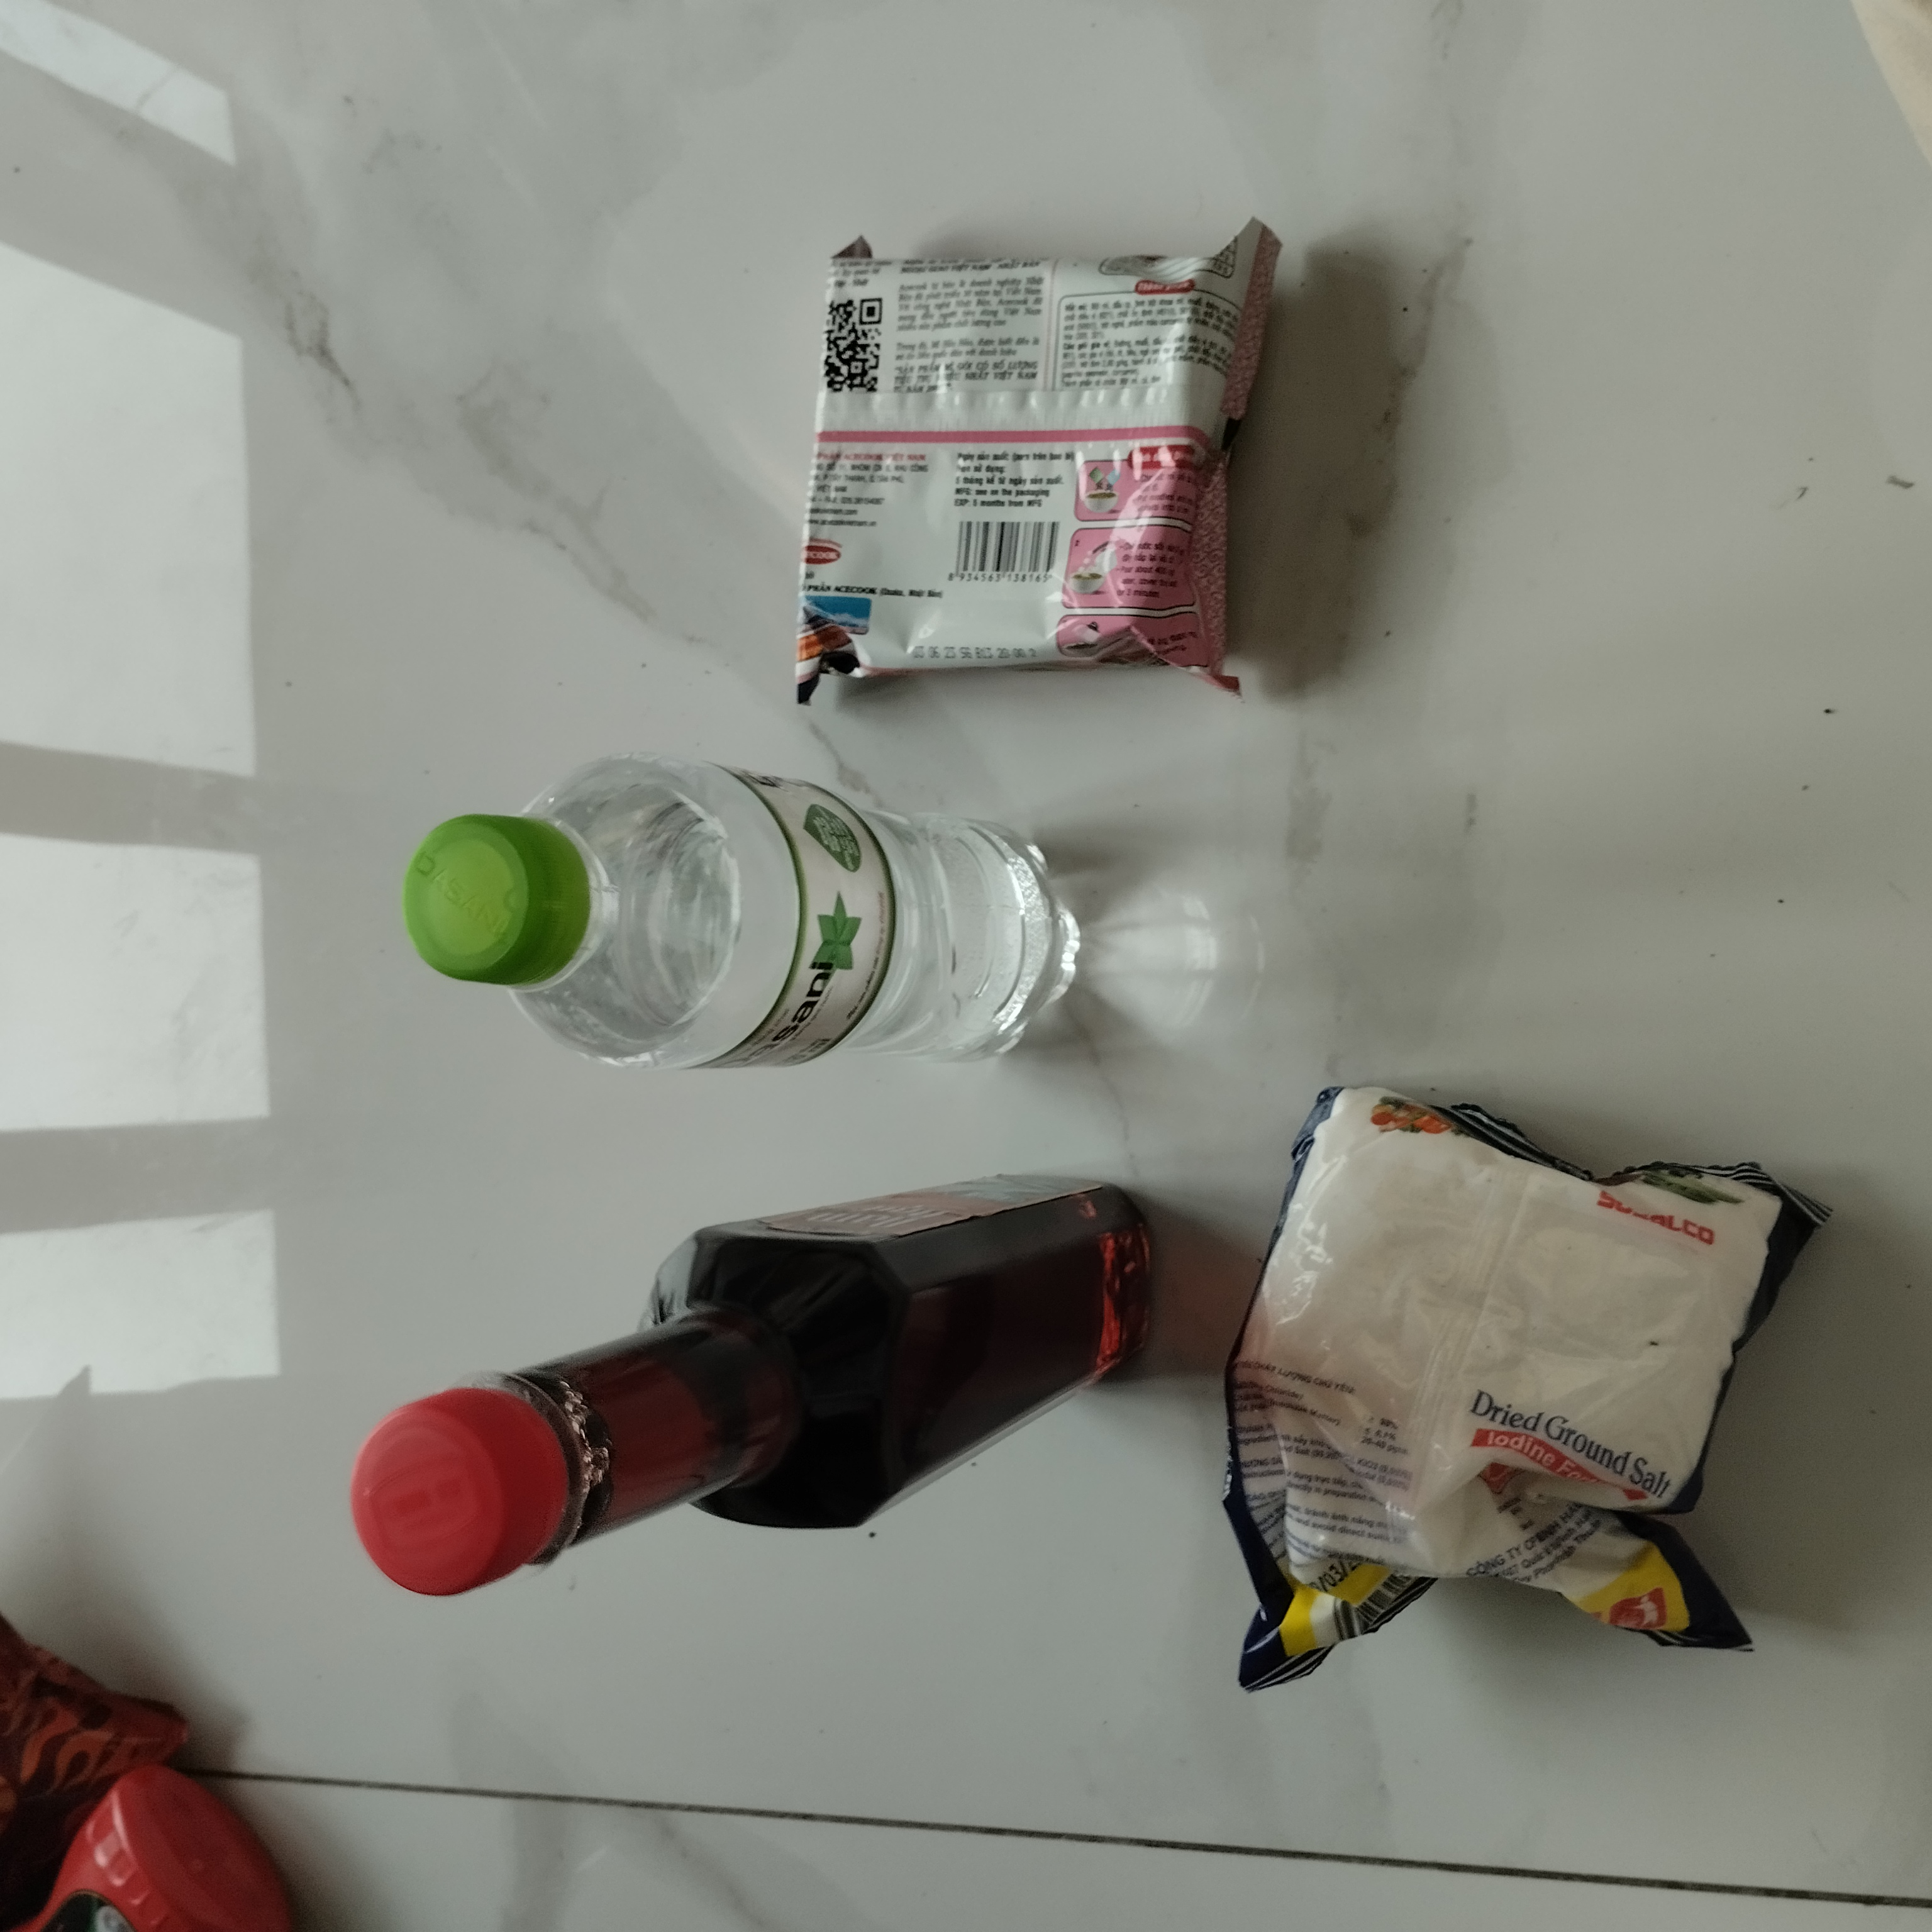Dasani: (405, 755, 1079, 1070)
Haohao: (789, 211, 1290, 708)
Namngu: (340, 1161, 1161, 1603)
Salt: (1217, 1049, 1831, 1706)
